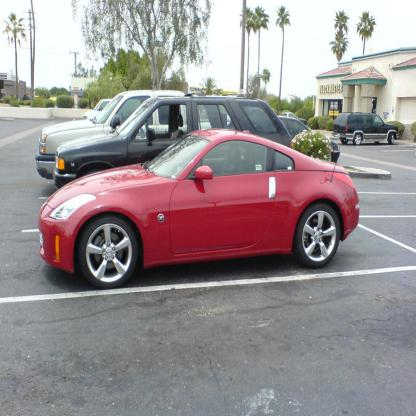Car: (36, 90, 360, 283), (334, 111, 398, 145)
